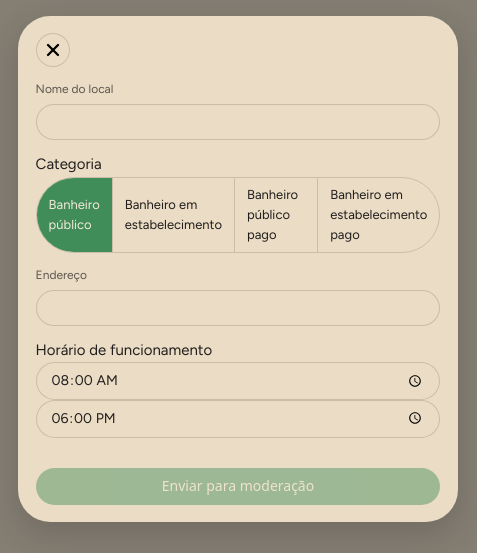
it: shows the success banner when moderate-submit responds with an approved verdict
Type "Padaria Bom Pão" into the field labelled "Nome do local" at coordinates (238, 122), box [36,104,440,140]
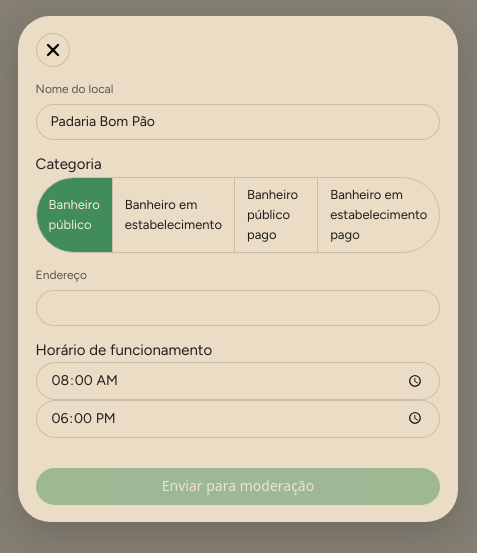
Type "Rua das Flores, 123" into the field labelled "Endereço" at coordinates (238, 308), box [36,290,440,326]
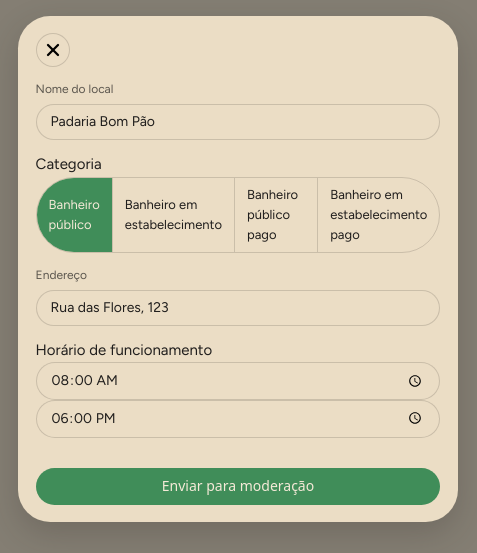
Click the button "Enviar para moderação" at coordinates (238, 486), box [36,468,440,505]
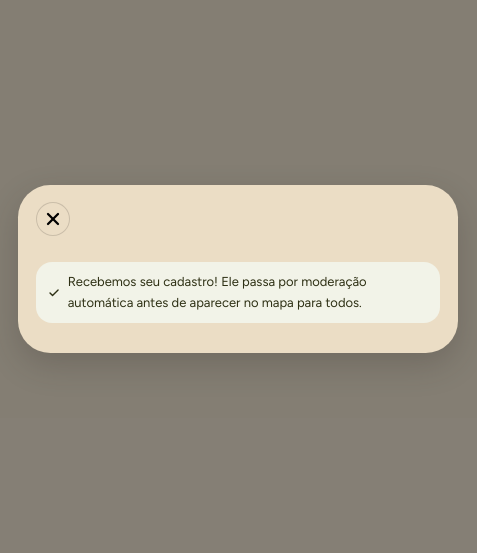
Check: the text "Recebemos seu cadastro! Ele passa por moderação automática antes de aparecer no mapa para todos." is shown, box [68,274,367,310]
